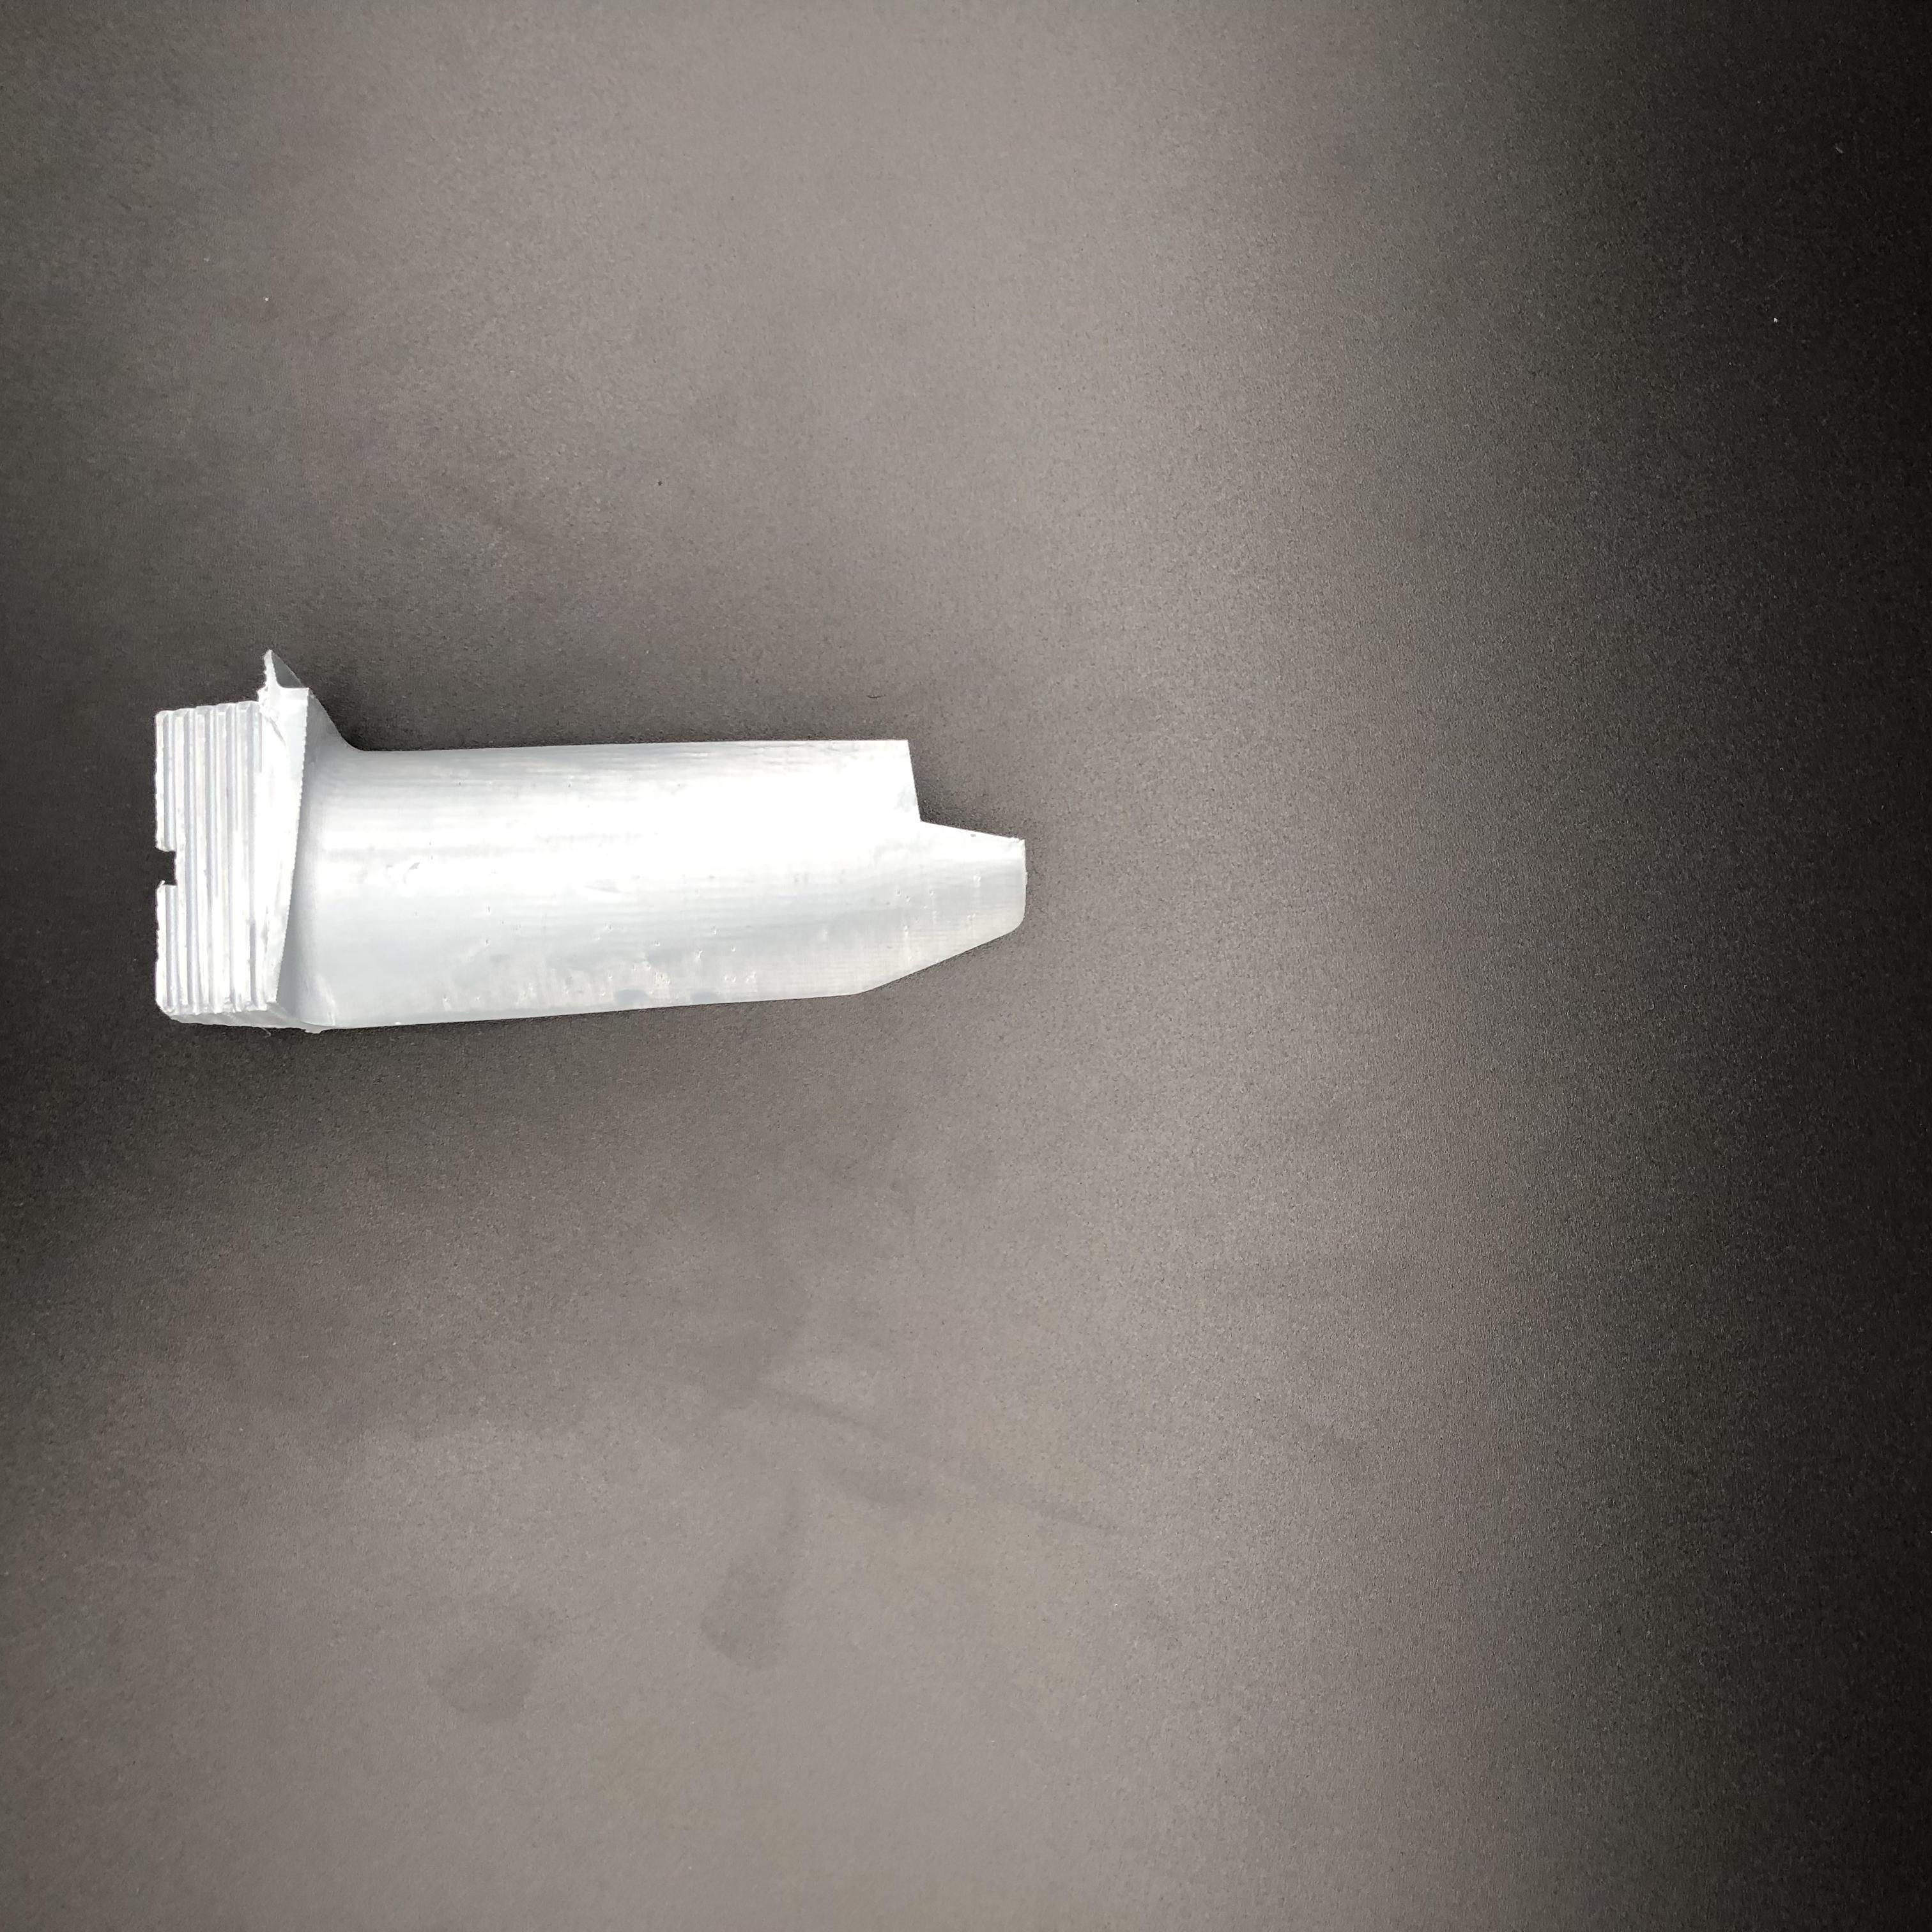fracture: (888, 734, 1012, 849)
